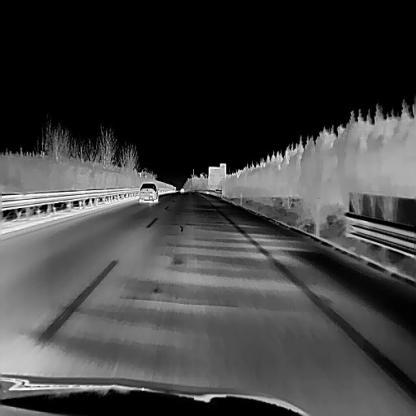car: (139, 182, 158, 203)
